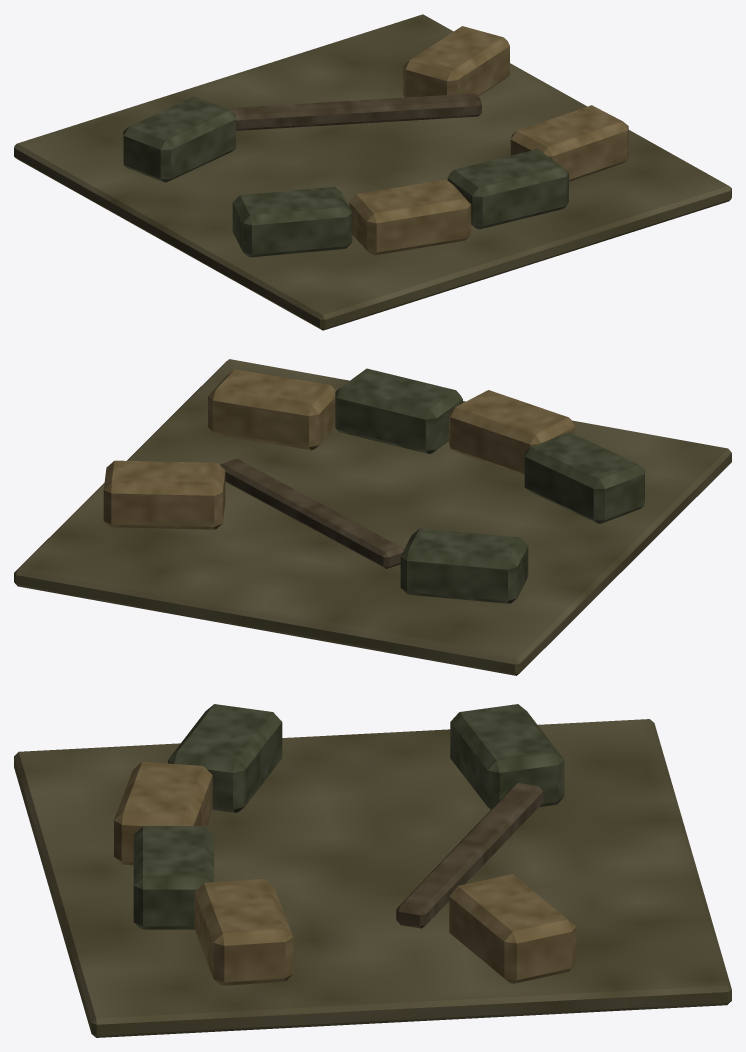
Rendered from MR_EmptyPosition.fbx.
3 renders of one model, top to bottom at view 1: azimuth 30°, elevation 25°; view 2: azimuth 150°, elevation 25°; view 3: azimuth 270°, elevation 25°, orthographic. The views are drawn at different scales.
Parts seen in each view (by area): view 1: MR_EmptyPosition; view 2: MR_EmptyPosition; view 3: MR_EmptyPosition.
Boxes of the visible parts, box(x1,y1,x2,y2) form: MR_EmptyPosition: box(14, 14, 731, 330); MR_EmptyPosition: box(14, 359, 731, 675); MR_EmptyPosition: box(14, 704, 731, 1037).
Size of the model in its own units: 2.67 by 0.29 by 2.67.
Materials: 1 (1 with a texture image).
